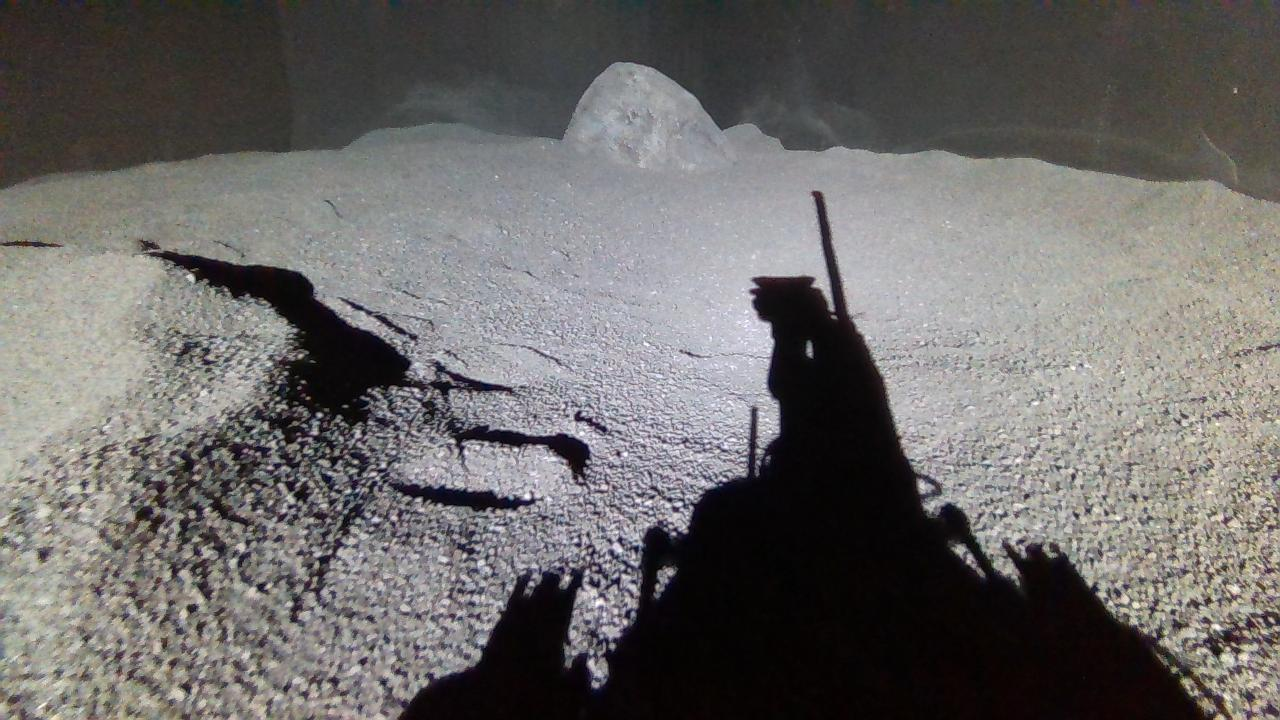rock: (564, 61, 737, 168)
